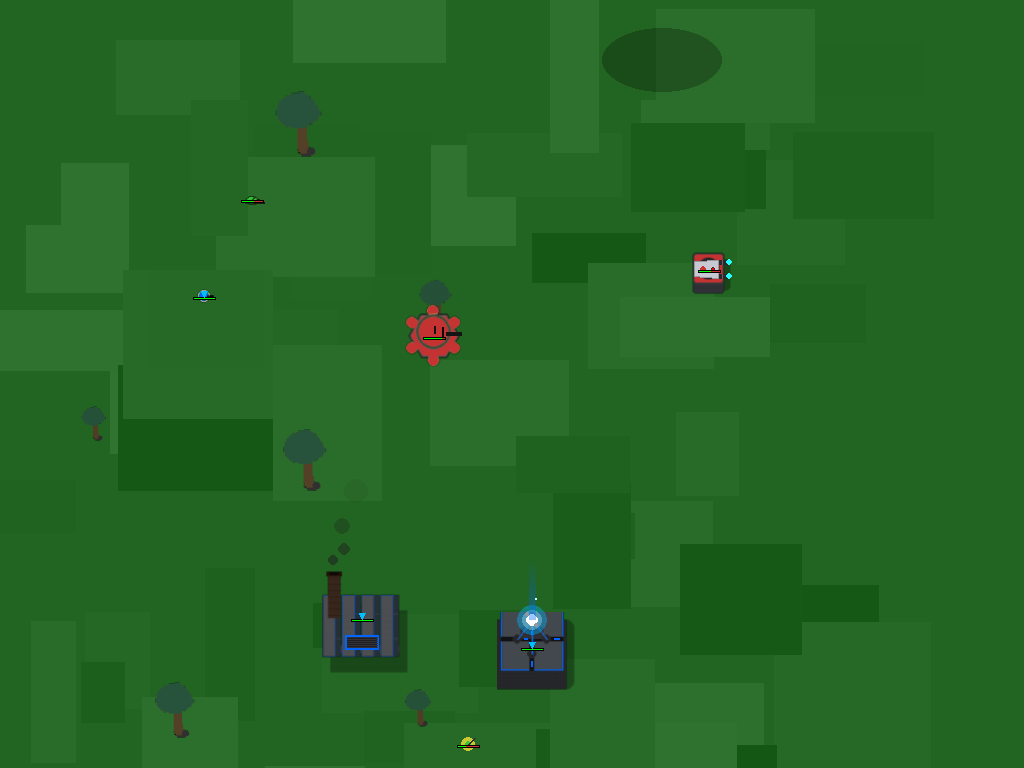AntiAirTurret: (684, 244, 734, 294)
Bunker: (401, 303, 466, 368)
CombatEngineer: (453, 729, 483, 759)
FactoryBuilding: (310, 566, 414, 670)
KirovAirship: (548, 0, 682, 134)
ResearchCenter: (492, 606, 573, 687)
Rifleman: (188, 281, 218, 311)
Sniper: (237, 184, 267, 214)
